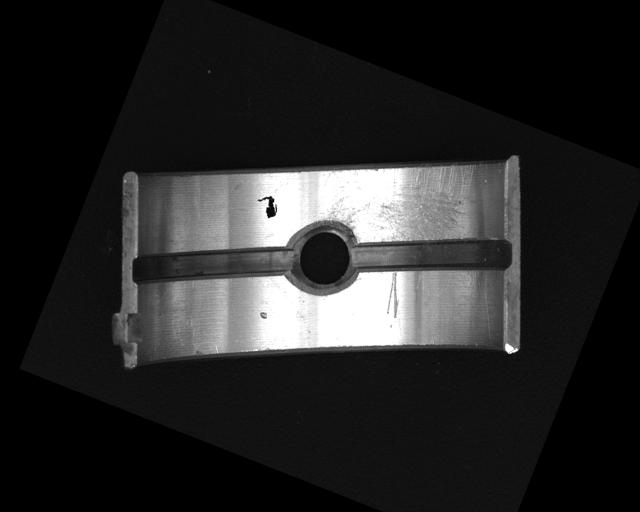blot: (252, 191, 282, 221)
bruise: (256, 309, 269, 321)
gap: (127, 196, 301, 334), (349, 191, 516, 319)
hole: (277, 208, 371, 303)
nick: (377, 269, 414, 321)
scratch: (316, 117, 484, 268)
